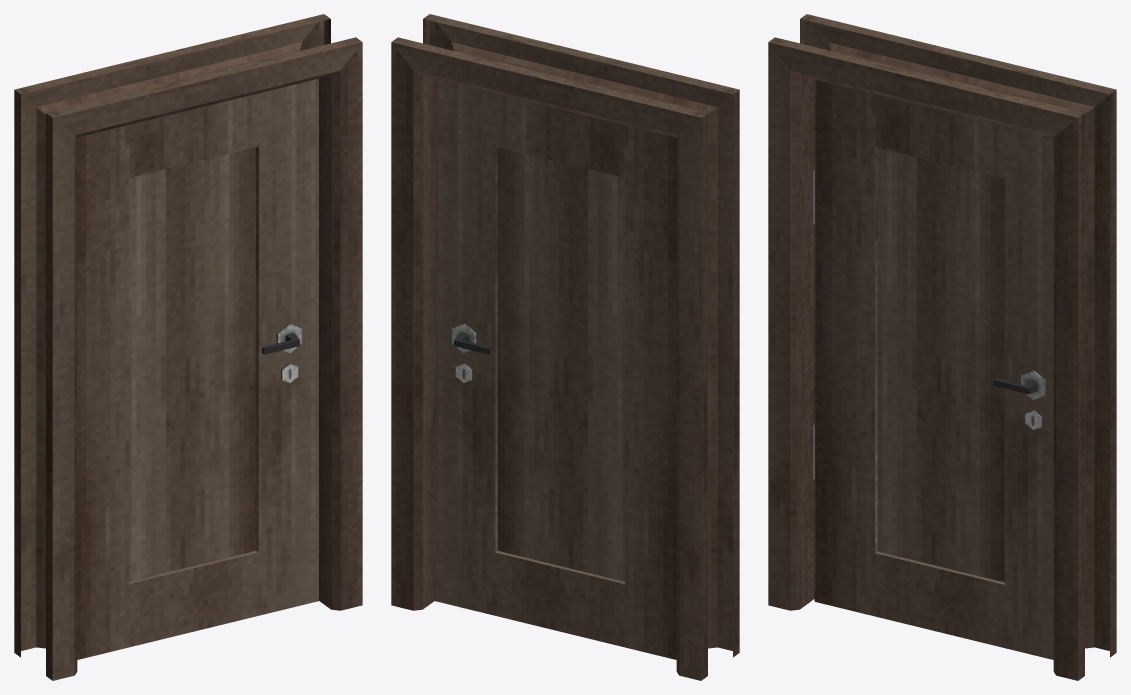
Rendered from door_wooden.fbx.
3 renders of one model, left to right at view 1: azimuth 30°, elevation 25°; view 2: azimuth 150°, elevation 25°; view 3: azimuth 330°, elevation 25°, orthographic.
Parts seen in each view (by area): view 1: door_wooden, door_wooden_arc; view 2: door_wooden, door_wooden_arc; view 3: door_wooden, door_wooden_arc.
Part boxes in pixels (x1,y1,x2,y2): door_wooden: (77,78,318,659); door_wooden_arc: (14,14,362,680); door_wooden: (435,78,676,659); door_wooden_arc: (391,14,739,680); door_wooden: (813,79,1053,659); door_wooden_arc: (768,14,1116,680).
Size of the model in its own units: 121 by 210 by 26.01.
1 material, 1 textured.
